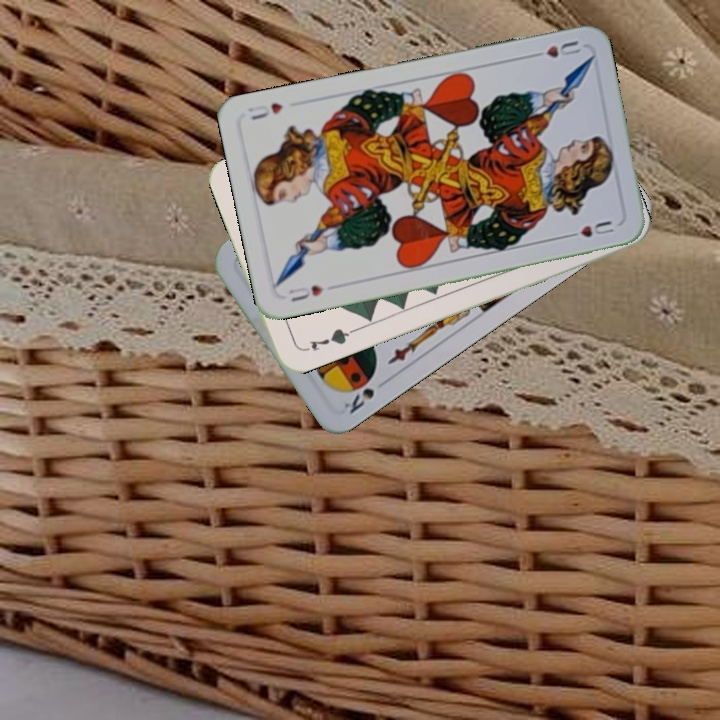G7: (298, 324, 355, 354)
HU: (526, 37, 583, 61), (284, 281, 326, 304)
SK: (339, 384, 377, 417)
